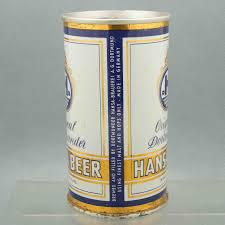beer: (59, 11, 172, 218)
